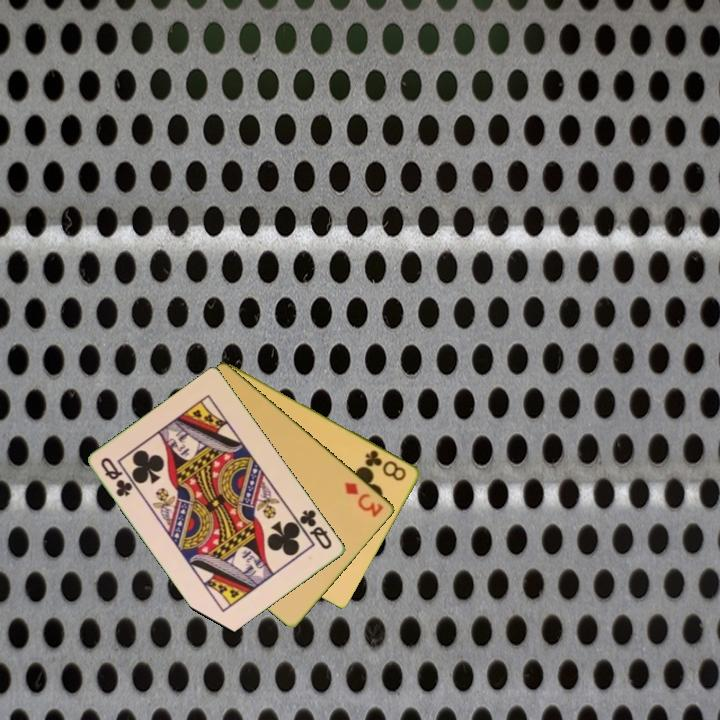3d: (341, 478, 387, 520)
8c: (362, 446, 410, 484)
Qc: (292, 506, 335, 552), (97, 454, 136, 500)
